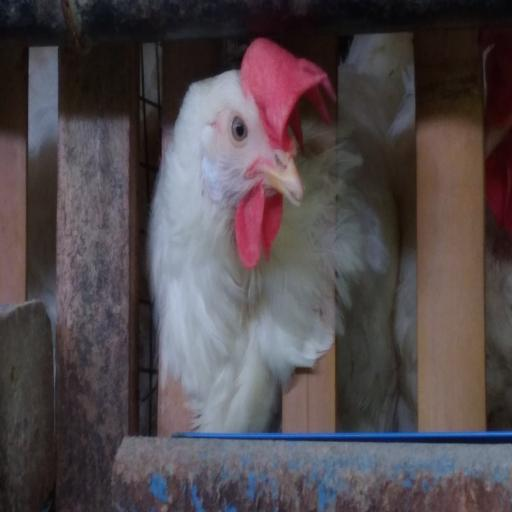healthy: (198, 36, 302, 230)
